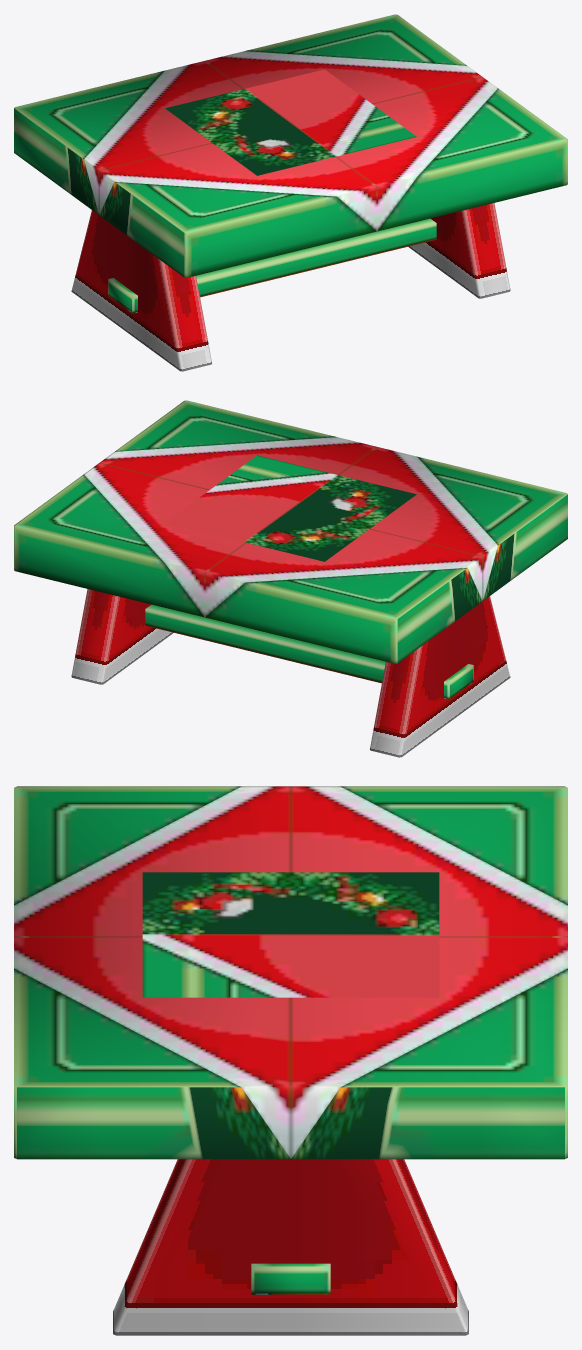
The model's file is int_xms_tableL.dae.
3 renders of one model, top to bottom at view 1: azimuth 30°, elevation 25°; view 2: azimuth 150°, elevation 25°; view 3: azimuth 270°, elevation 25°, orthographic. The views are drawn at different scales.
Visible parts, largest first — view 1: int_xms_tableL; view 2: int_xms_tableL; view 3: int_xms_tableL.
Part boxes in pixels (box(x1,y1,x2,y2)): int_xms_tableL: box(14, 14, 567, 371); int_xms_tableL: box(14, 400, 567, 757); int_xms_tableL: box(14, 786, 567, 1335).
Bounding box in the file's own units: 57.6 × 24.18 × 44.8.
2 materials, 2 textured.
